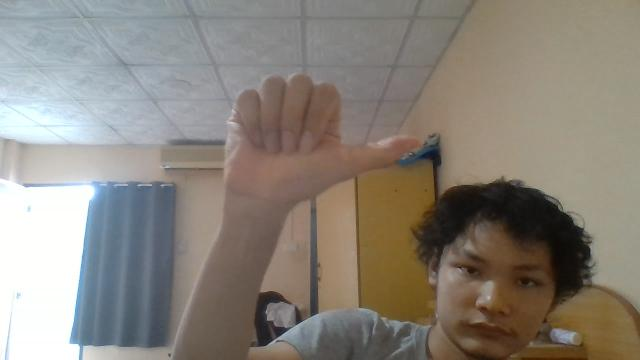left: (222, 72, 422, 208)
